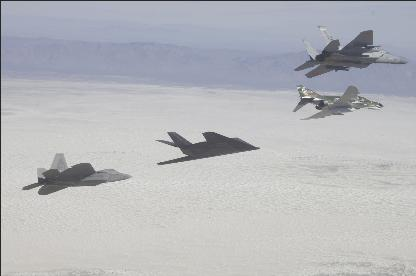E7: (154, 130, 262, 164)
F117: (294, 24, 408, 76)
F18: (20, 152, 132, 194)
F35: (292, 83, 386, 119)
